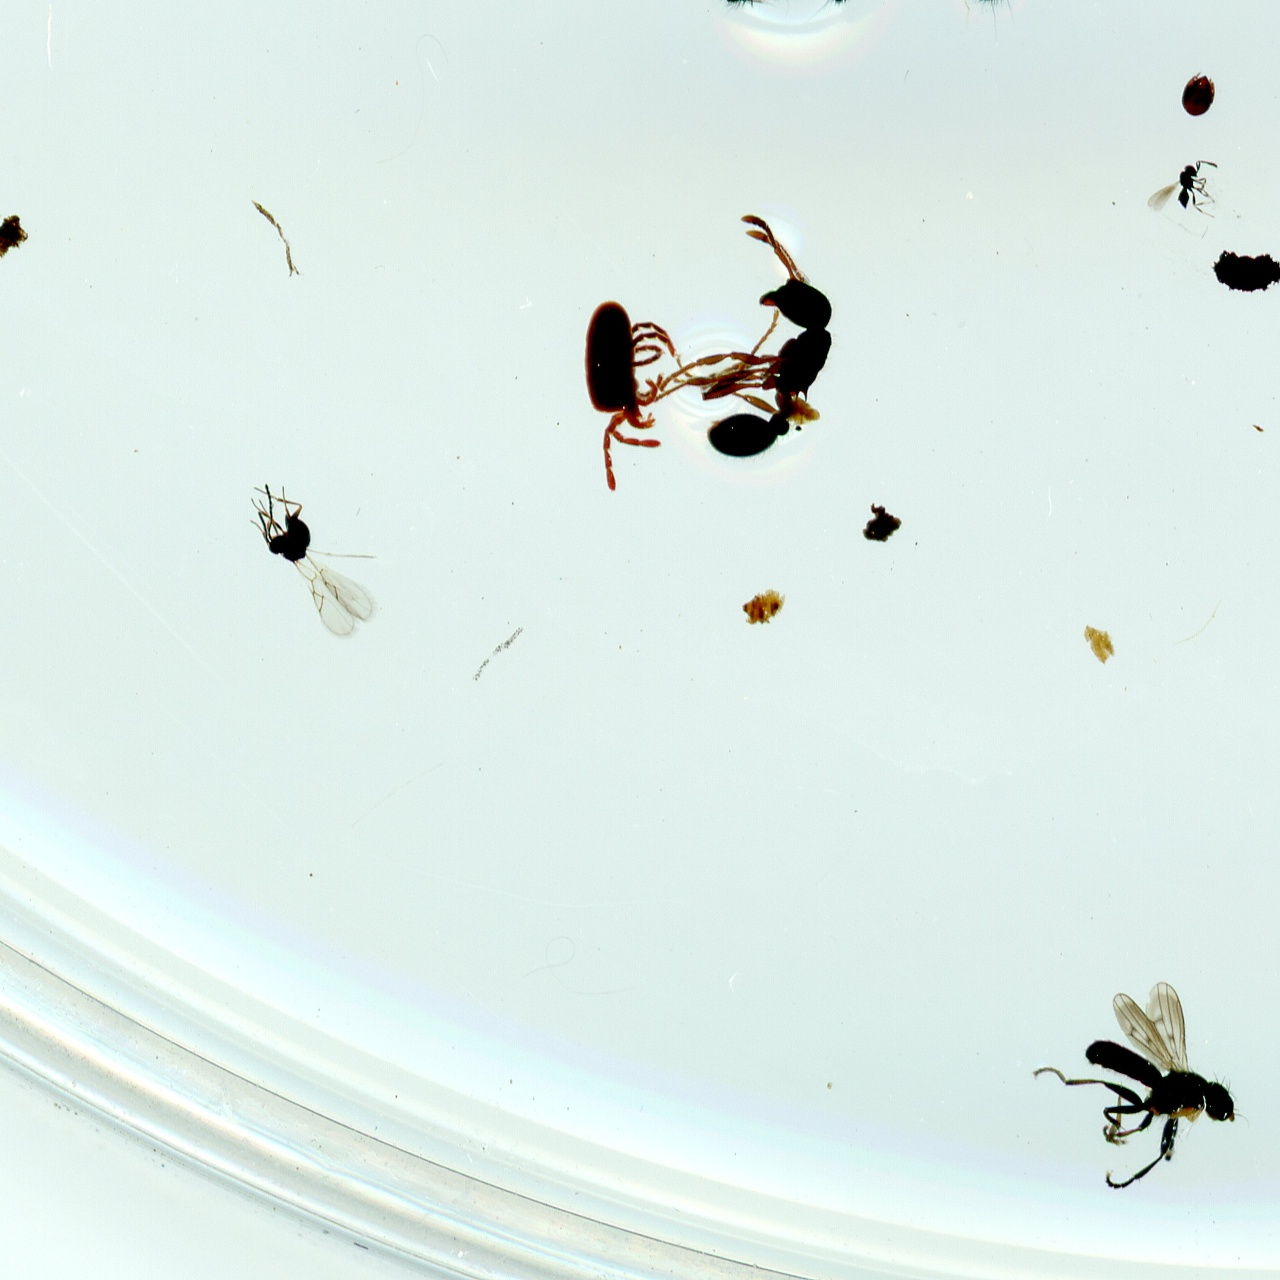arthropod: (658, 195, 866, 490), (1023, 974, 1245, 1205), (216, 442, 418, 663), (576, 295, 680, 496), (661, 0, 1108, 40), (1141, 151, 1235, 224), (1178, 68, 1223, 118)
